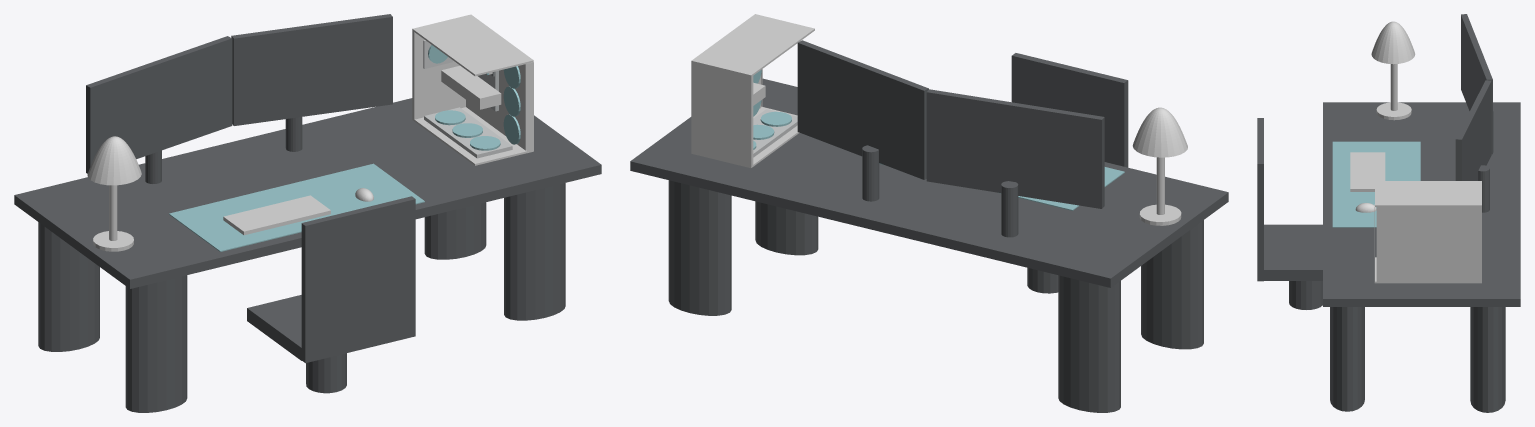
Rendered from Desk.glb.
3 renders of one model, left to right at view 1: azimuth 30°, elevation 25°; view 2: azimuth 150°, elevation 25°; view 3: azimuth 270°, elevation 25°, orthographic. The views are drawn at different scales.
Parts seen in each view (by area): view 1: Mesh_Mesh_head_geo.001_lambert2SG.001; view 2: Mesh_Mesh_head_geo.001_lambert2SG.001; view 3: Mesh_Mesh_head_geo.001_lambert2SG.001.
Part boxes in pixels (box(x1,y1,x2,y2)): Mesh_Mesh_head_geo.001_lambert2SG.001: box(14, 14, 601, 412); Mesh_Mesh_head_geo.001_lambert2SG.001: box(630, 14, 1228, 412); Mesh_Mesh_head_geo.001_lambert2SG.001: box(1257, 14, 1520, 412).
Bounding box in the file's own units: 265 × 143 × 150.
